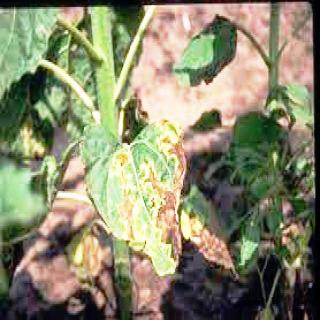wilt: (108, 120, 190, 276), (184, 218, 230, 270)
